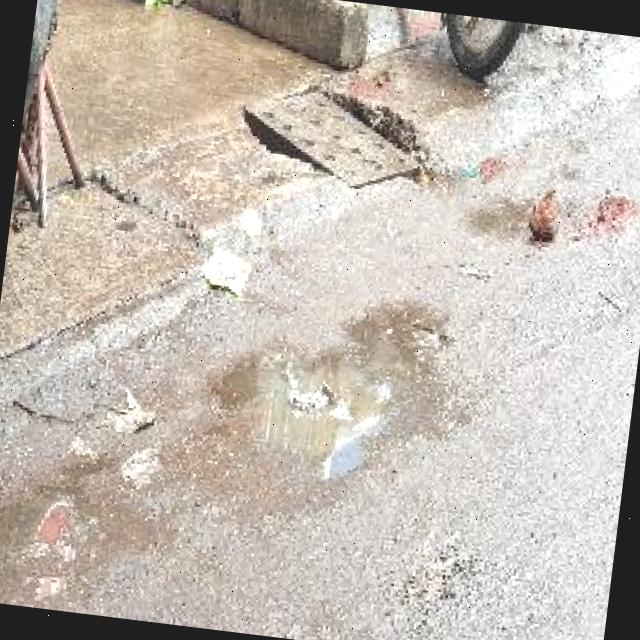waterlogging: (224, 251, 469, 515)
